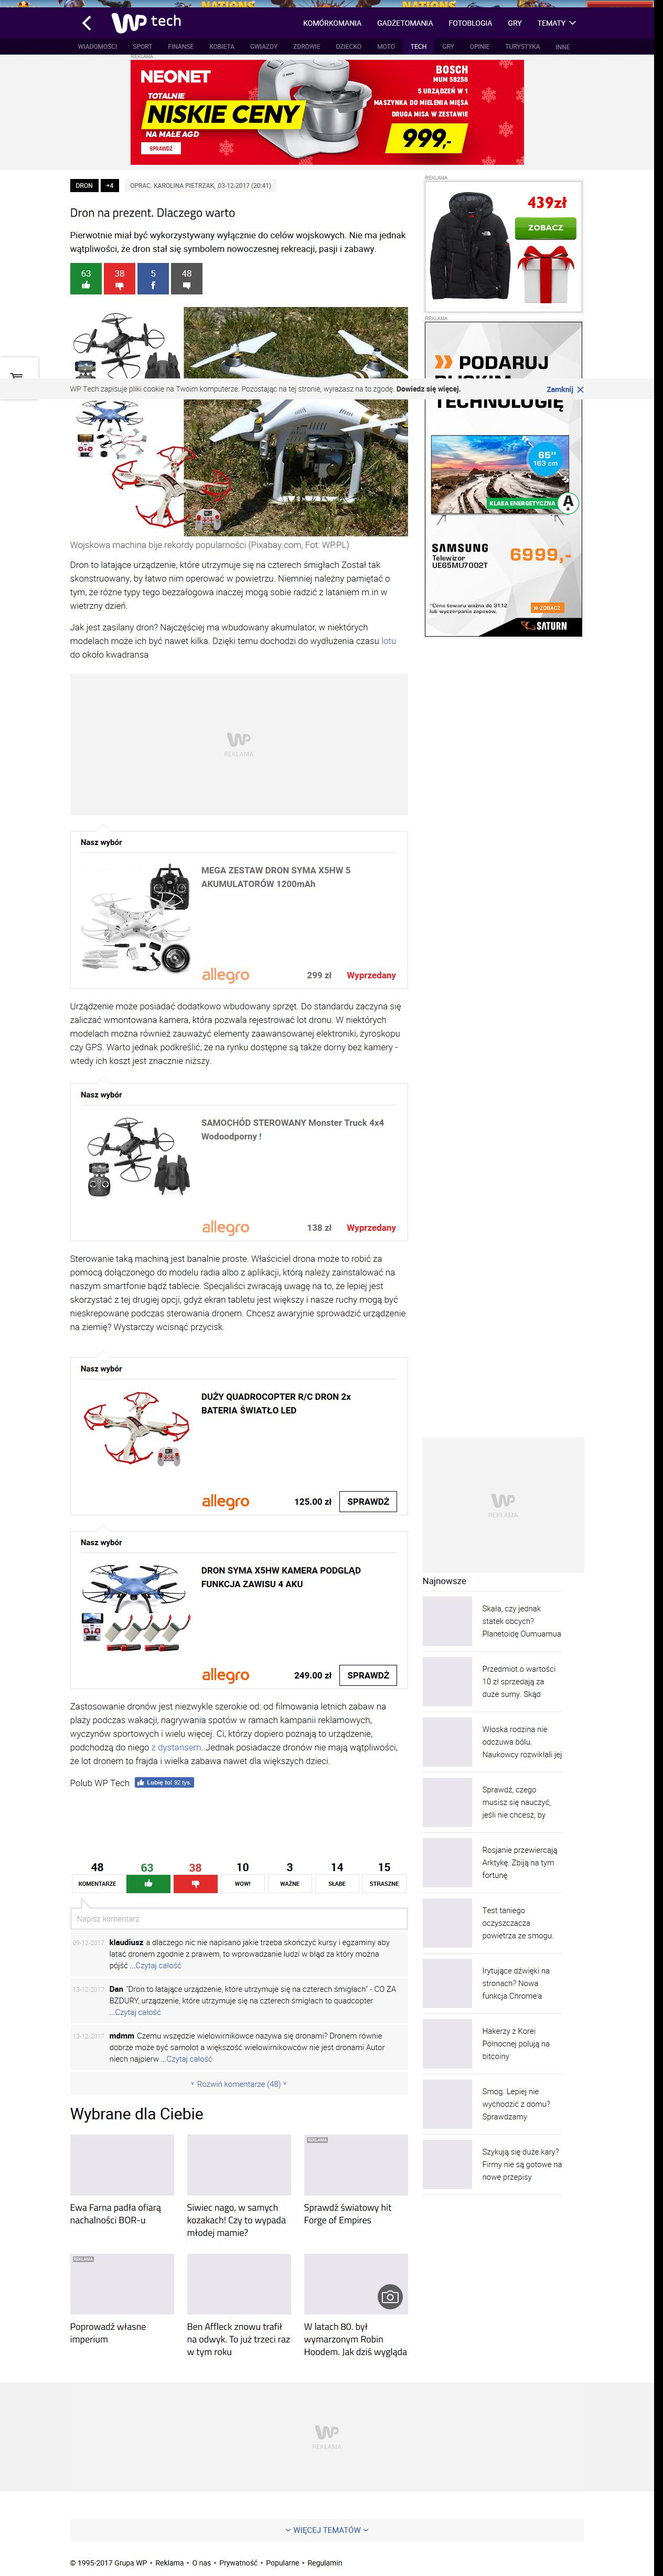title: (69, 207, 236, 220)
